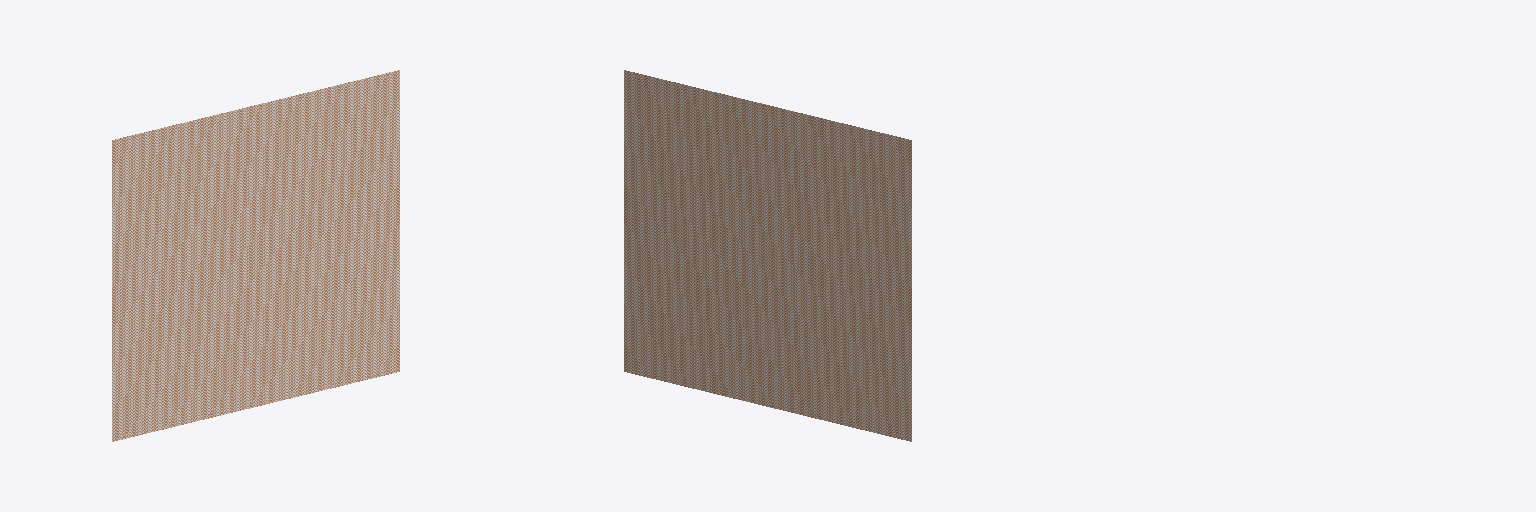
3 views of the same model, side by side, from view 1: azimuth 30°, elevation 25°; view 2: azimuth 150°, elevation 25°; view 3: azimuth 270°, elevation 25° (orthographic).
Visible parts, largest first — view 1: Plane; view 2: Plane; view 3: none.
Part boxes in pixels (x1,y1,x2,y2): Plane: (112, 70, 399, 441); Plane: (624, 70, 911, 441).
Bounding box in the file's own units: 200 × 200 × 0.
Materials: 1 (1 with a texture image).